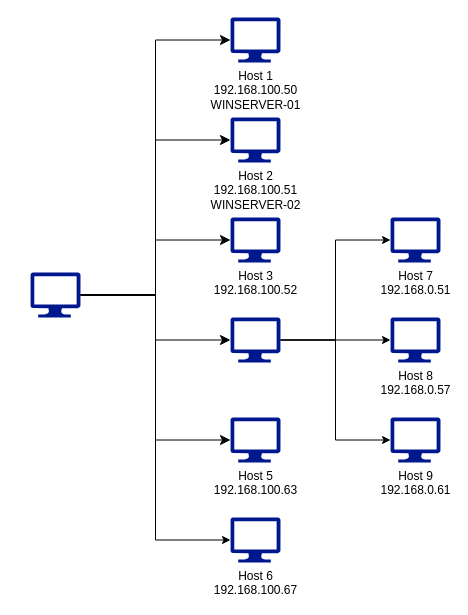
Some shapes in this 468 by 615 pixel diagram are drawn without their labels. The box of each missing label's shape, as (x1, y1, x2, y2) in pixels:
Host 4 192.168.100.55 192.168.0.50: (230, 317, 280, 362)
Kali 192.168.100.5: (30, 272, 80, 317)
